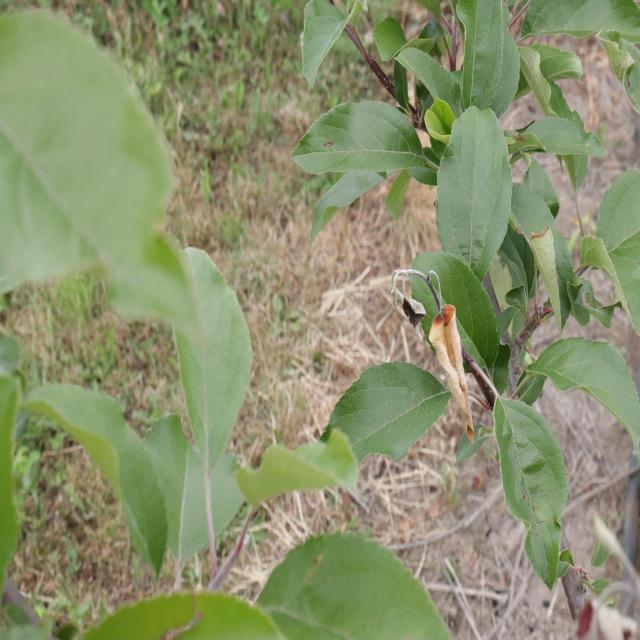-FireBlight-: (392, 265, 478, 415)
